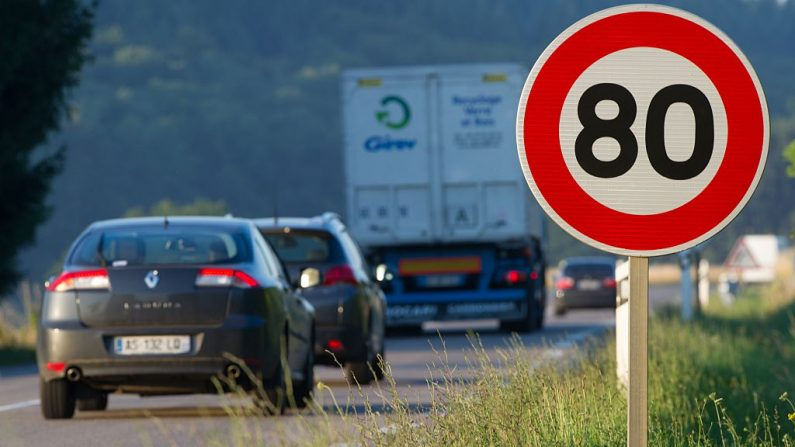Speed_limit_80km: (513, 3, 768, 253)
